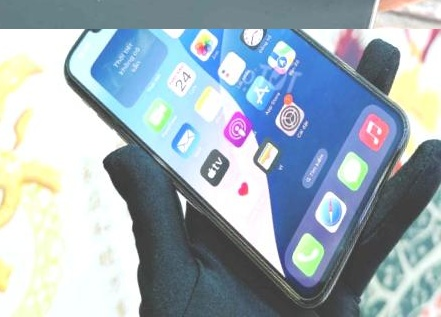scratch: (260, 29, 374, 79), (358, 73, 423, 153), (321, 239, 351, 294)
